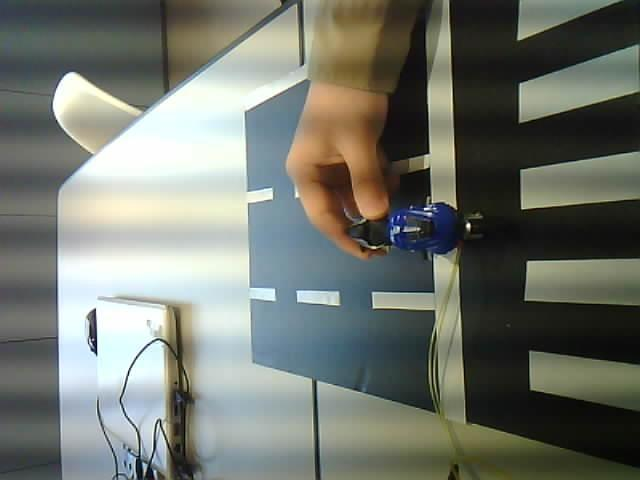Motorcycle: (337, 199, 478, 266)
